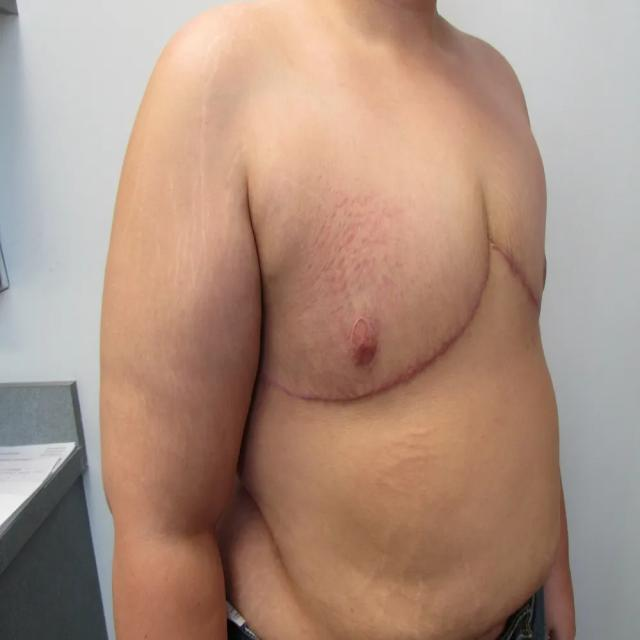Seno herido: (258, 211, 486, 412), (488, 126, 555, 342)
